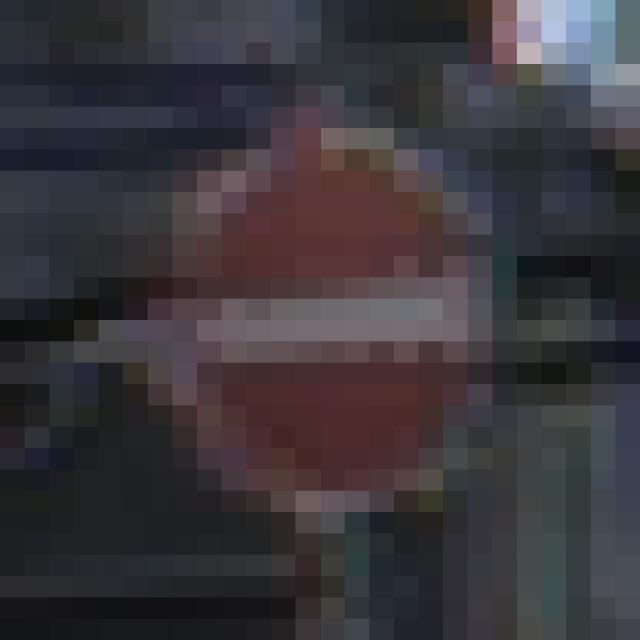No Entry: (124, 108, 518, 534)
